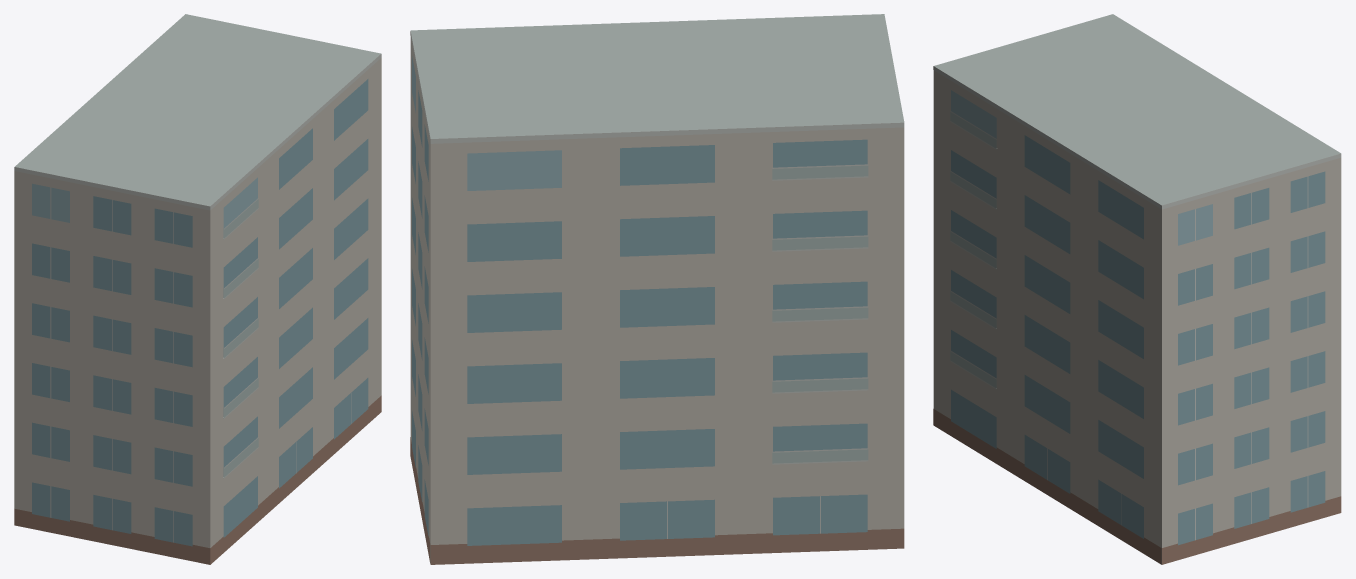
Rendered from survey-upis-32524808.glb.
The picture shows the model from 3 angles, left to right: view 1: azimuth 30°, elevation 25°; view 2: azimuth 150°, elevation 25°; view 3: azimuth 270°, elevation 25°; orthographic projection. The views are drawn at different scales.
Visible parts, largest first — view 1: survey-upis-32524808.tmp; view 2: survey-upis-32524808.tmp; view 3: survey-upis-32524808.tmp.
Boxes of the visible parts, x1=… form: survey-upis-32524808.tmp: x1=14, y1=14, x2=381, y2=564; survey-upis-32524808.tmp: x1=410, y1=14, x2=904, y2=564; survey-upis-32524808.tmp: x1=933, y1=14, x2=1341, y2=564.
Size of the model in its own units: 24.52 by 21.45 by 22.07.
